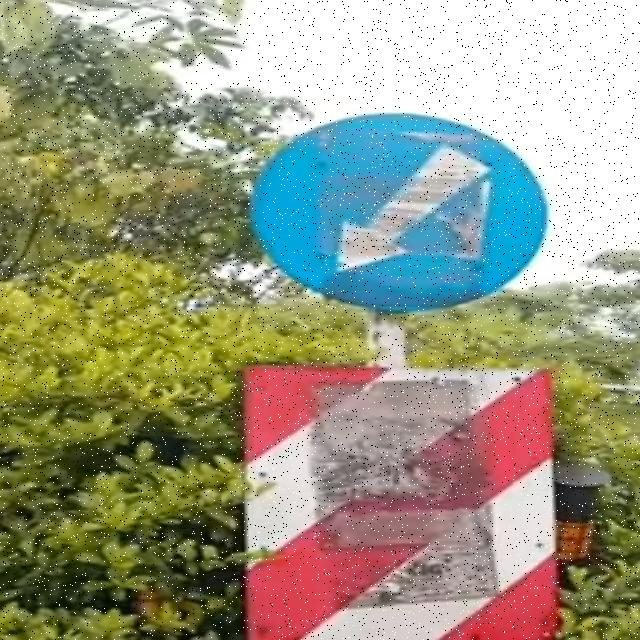compulsory_keep_left: (256, 95, 574, 318)
object_hazzard_to_right: (228, 364, 586, 640)
